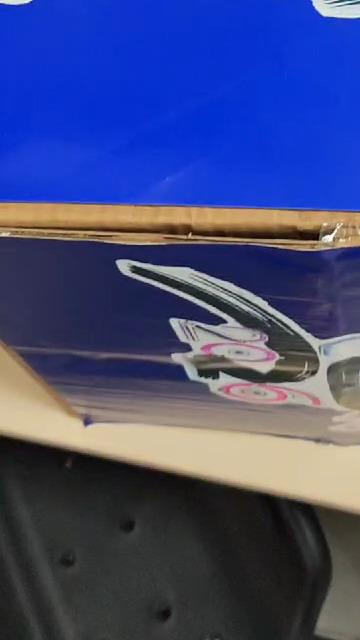B_R1: (3, 0, 360, 14)
